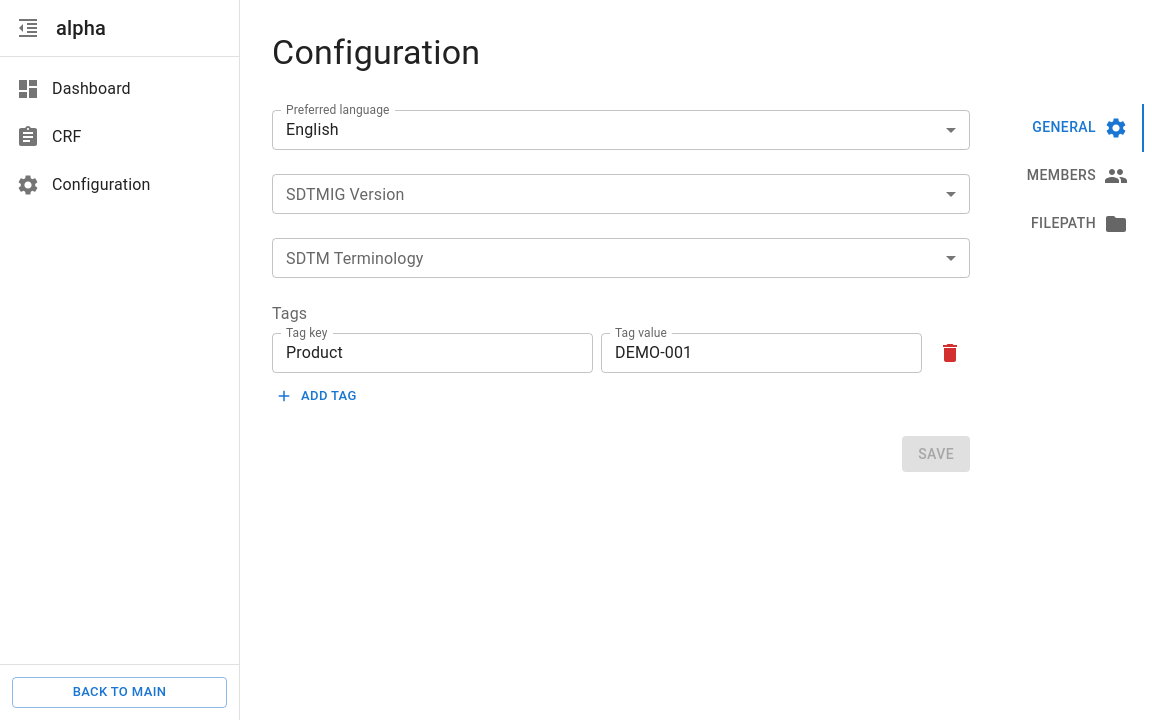
Test: ProjectConfigurationPage — leader view › picking a SDTMIG version enables Save
Check: the button with test id "config-general-save" is disabled, box x1=902 y1=436 x2=970 y2=472
Click the dropdown named "sdtmig version" next to "SDTMIG Version": coordinates (621, 194) x1=272 y1=174 x2=970 y2=214
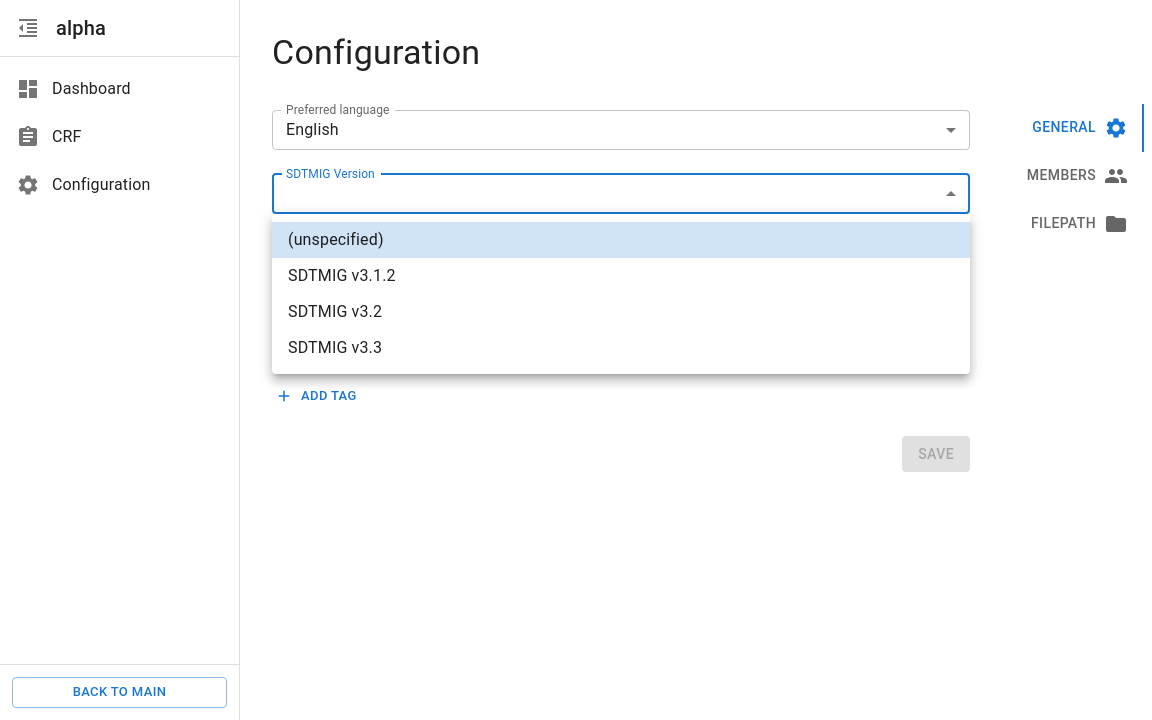
Click the option "SDTMIG v3.2": coordinates (335, 312) x1=288 y1=302 x2=382 y2=321
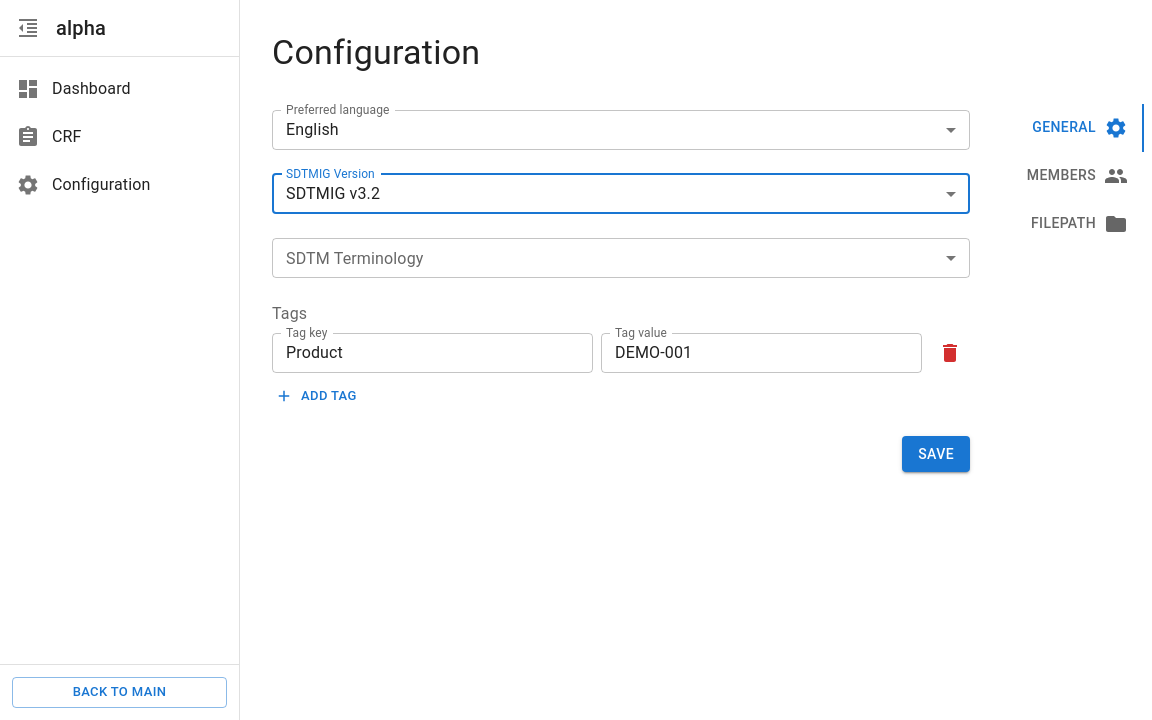
Check: the button with test id "config-general-save" is enabled, box x1=902 y1=436 x2=970 y2=472
